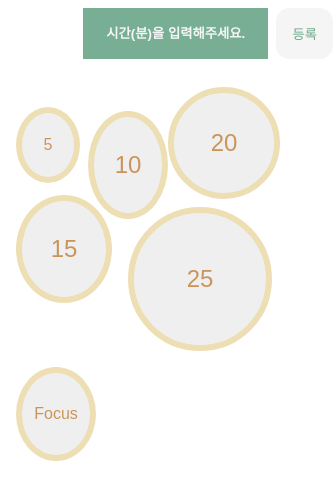
Test: TimeSelectContainer › path가 /break 일 때 › /focus로 넘어갑니다.
Click the button "Focus" at (56, 414), box [16,367,96,461]
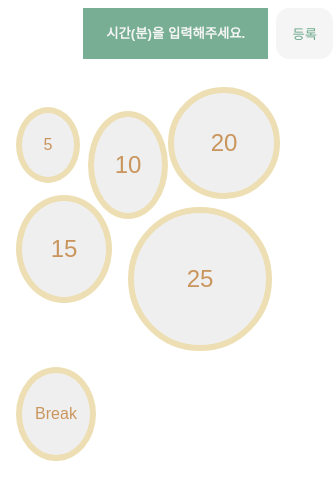
Expected: the text "Break" is shown, [16,367,96,461]
